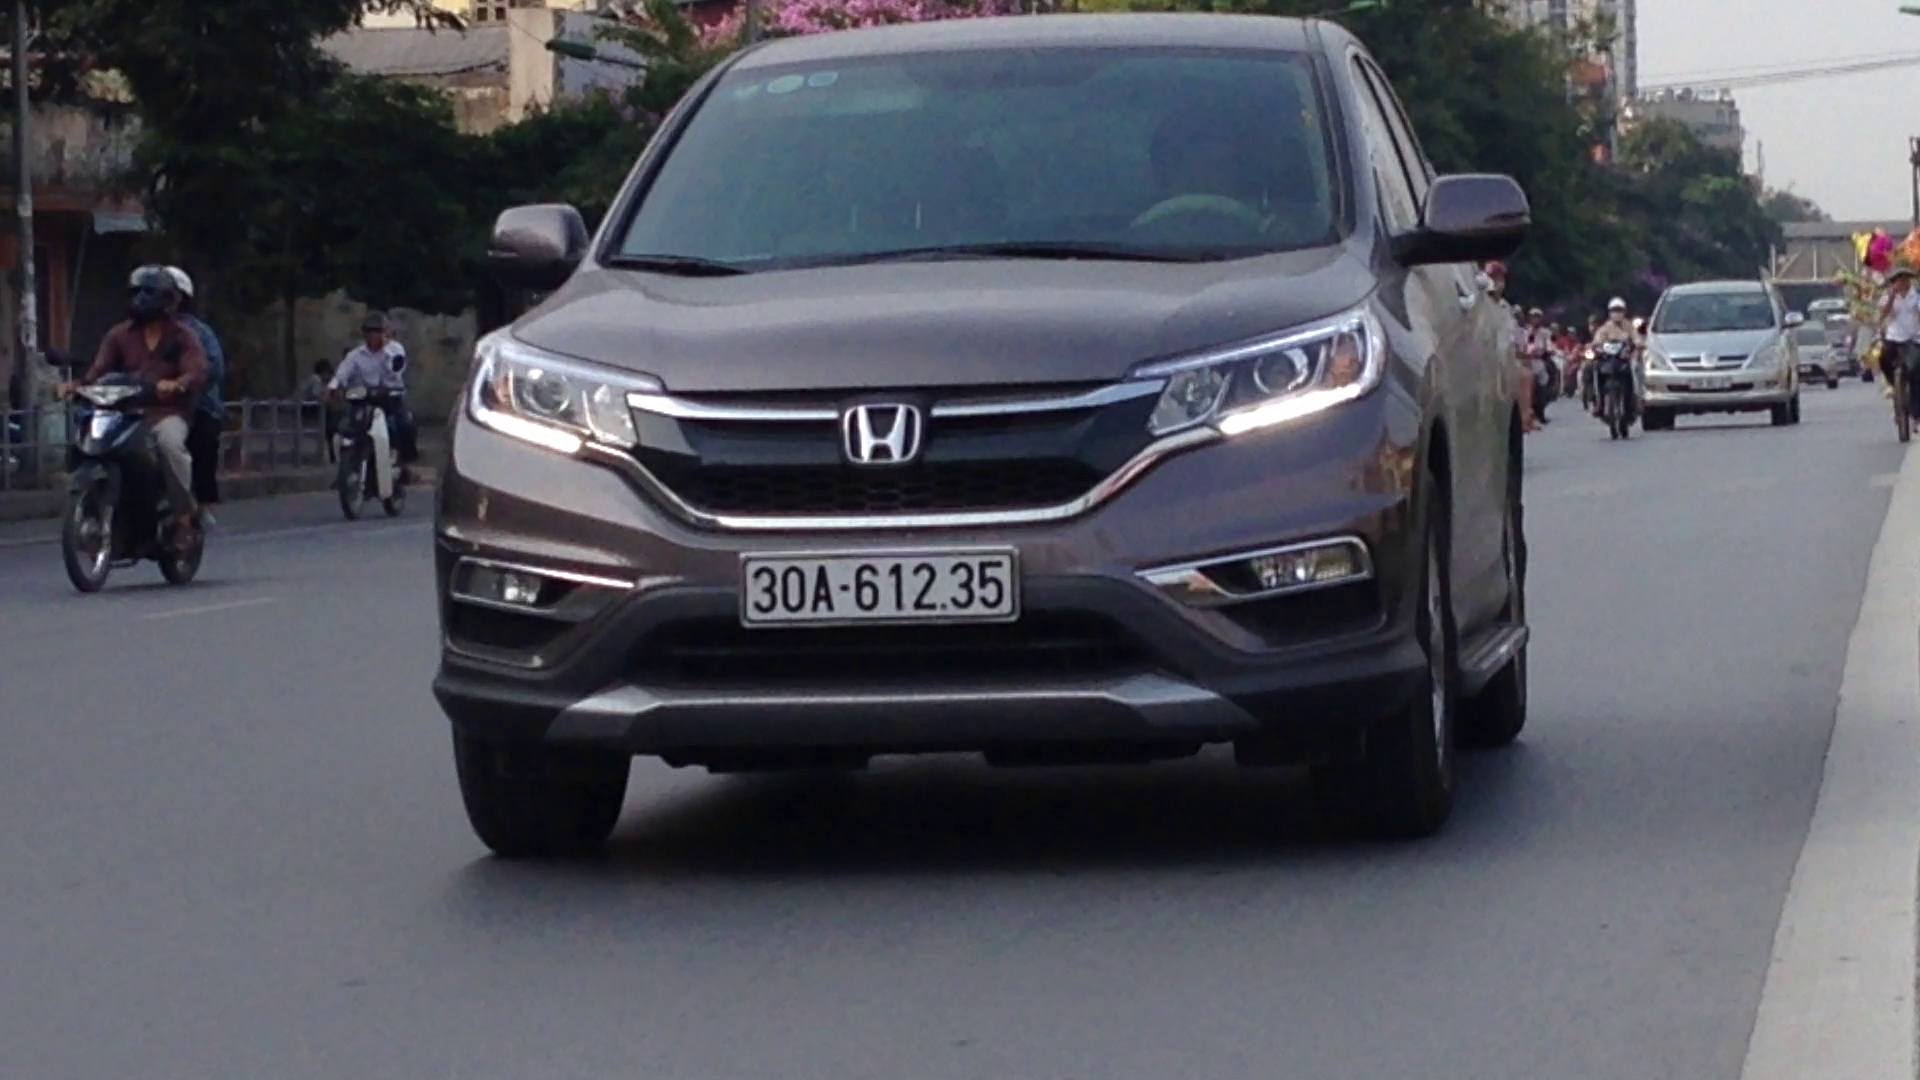person: (735, 544, 1021, 627)
